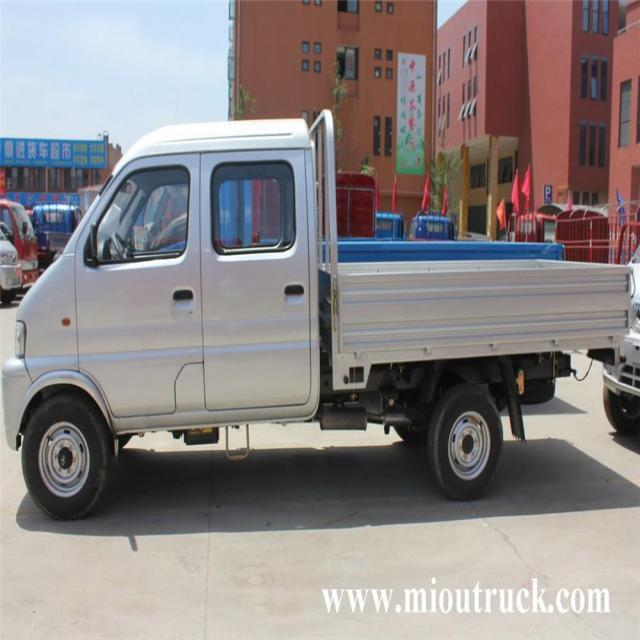uncovered: (31, 117, 628, 518)
